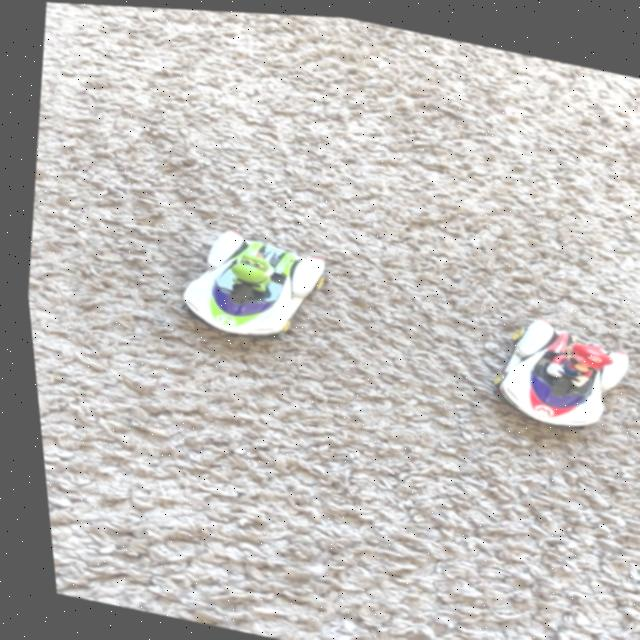mario: (474, 298, 640, 441)
yoshi: (152, 204, 341, 355)
